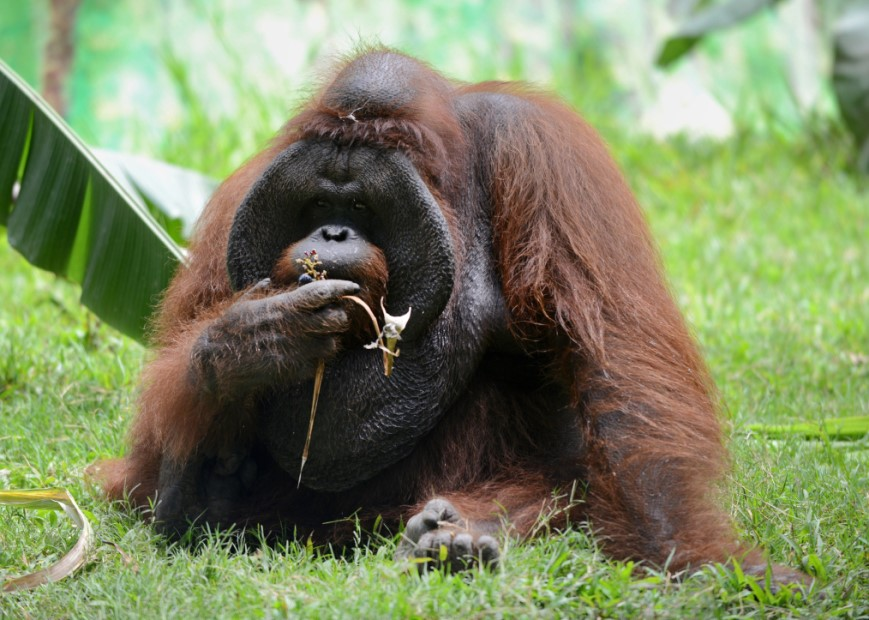Orangutan: (131, 62, 689, 550)
